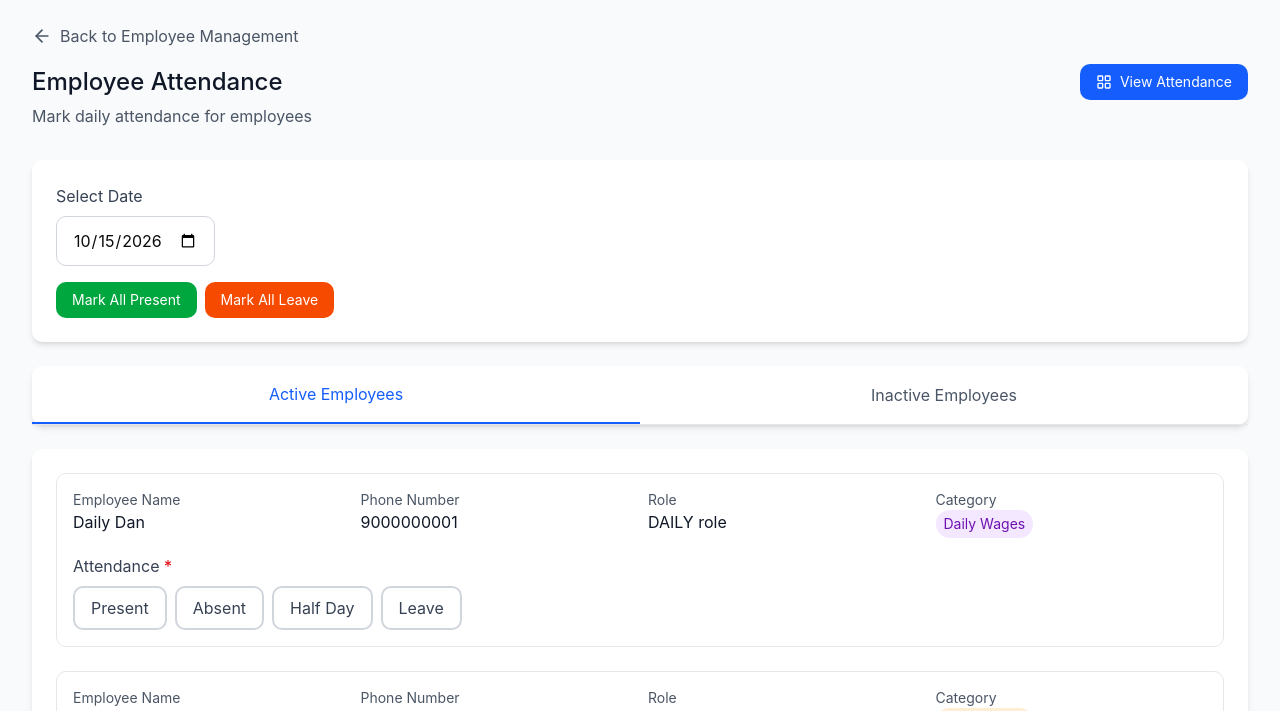
AttendanceScreen › marking everyone at once › asks first when Mark All Present is pressed, and Cancel changes nothing
This screenshot has width=1280, height=711.
Expected: the text "Daily Dan" is shown, [73,512,145,532]
Step 1. Click the button "Mark All Present" → (126, 300), box [56,282,196,318]
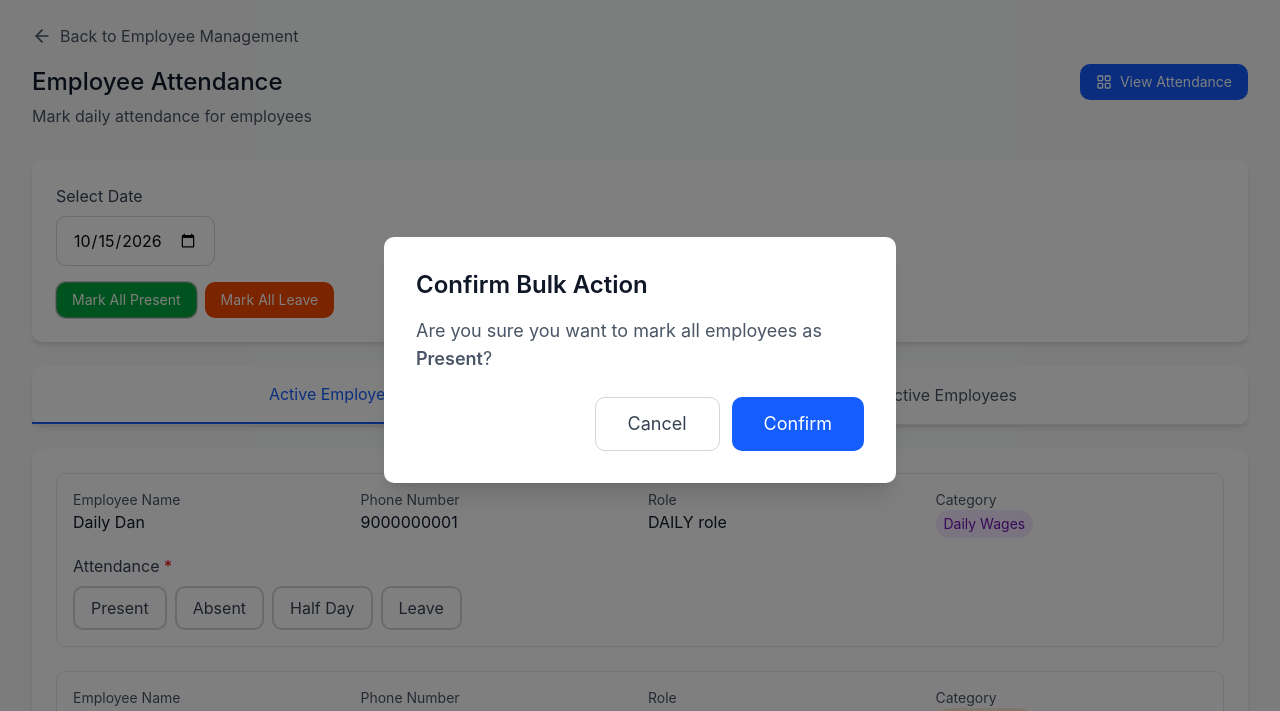
Result: the heading "Confirm Bulk Action" is shown at [416,270,648,299]
Result: the text "Are you sure you want to mark all employees as Present?" is shown at [416,317,864,373]
Step 2. Click the button "Cancel" → (657, 424), box [594,397,720,451]
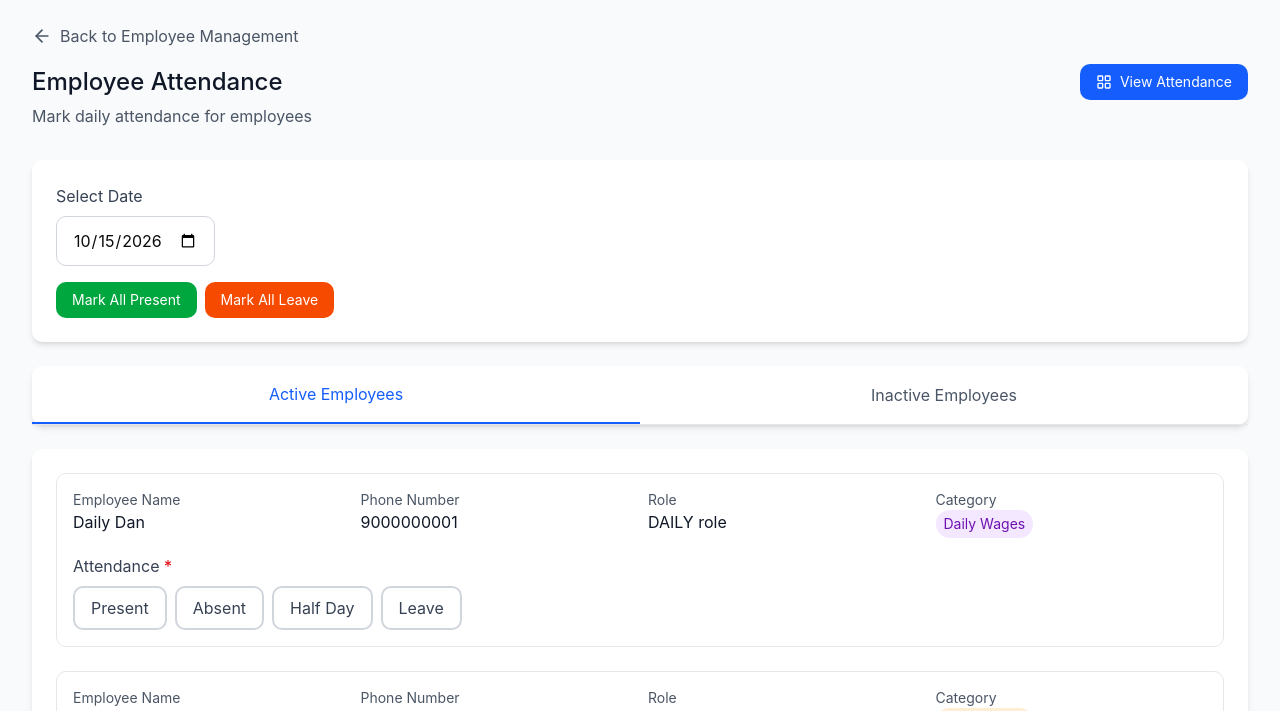
Result: the heading "Confirm Bulk Action" is gone
